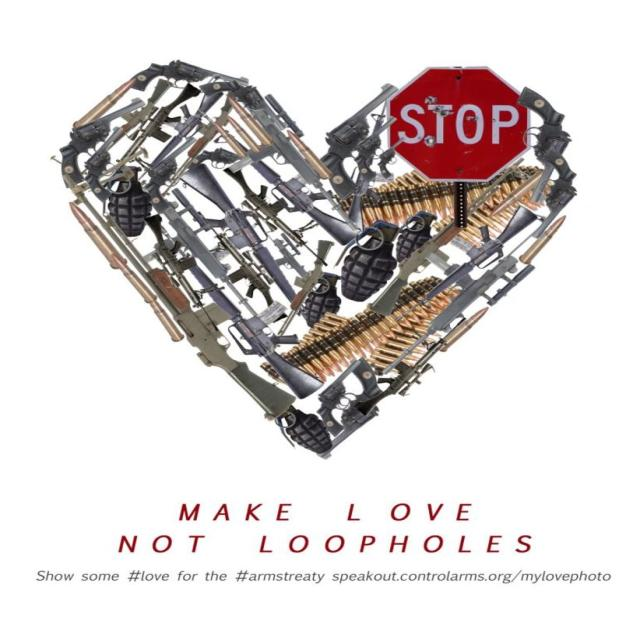Stop-sign: (388, 66, 533, 184)
